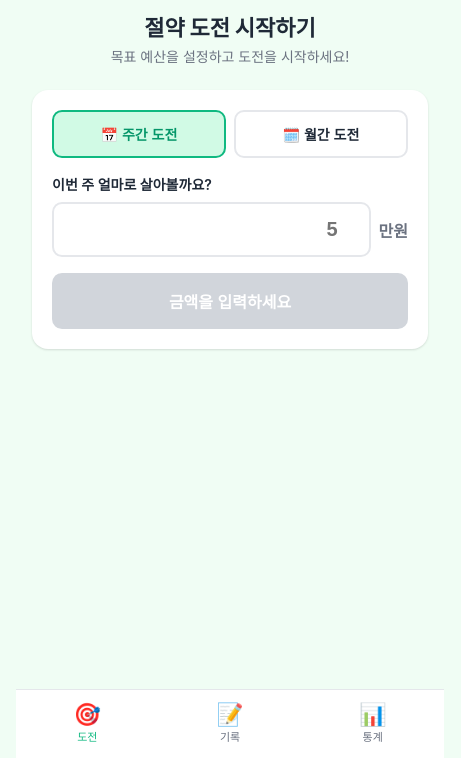
Test case: App › 예산 금액 입력이 가능하다
Type "10" into the number field with placeholder "5" at coordinates (211, 230), box [52, 202, 370, 257]
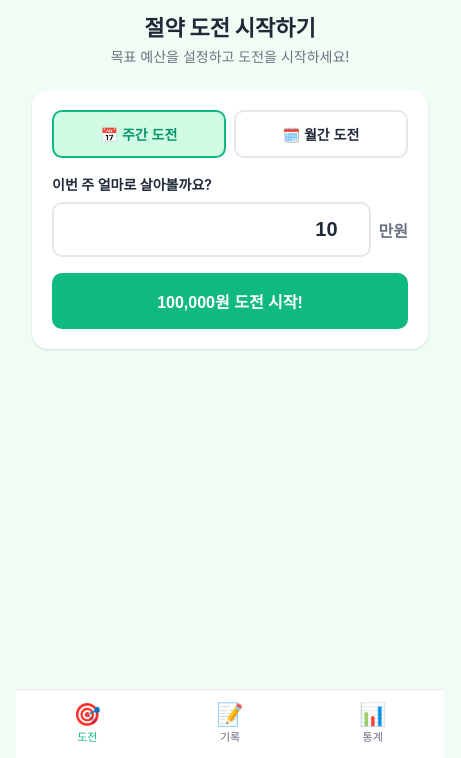
Expected: the button "100,000원 도전 시작!" is shown, [52, 273, 408, 329]
